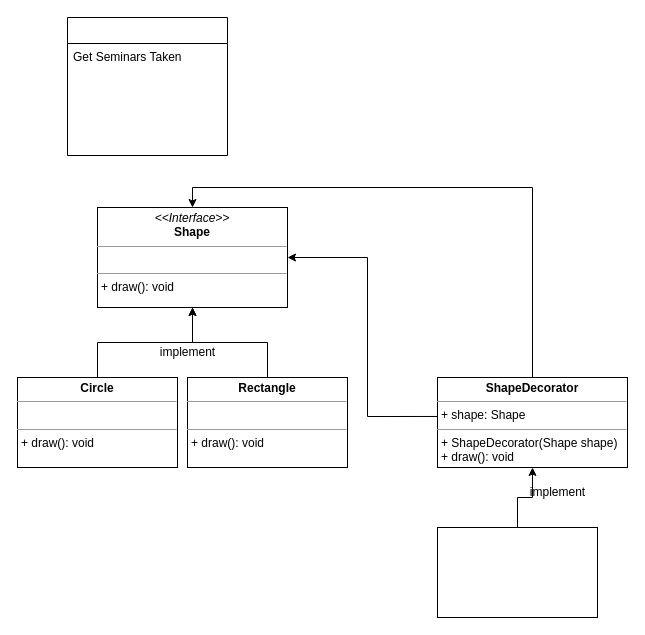
The diagram is 645 pixels wide and 635 high, and some of its shapes have lost their labels. Each missing label, with the box of its shape:
ShapeDecorator + shape: Shape + ShapeDecorator() + draw(): void: (436, 526, 598, 618)
Student: (66, 16, 228, 156)
